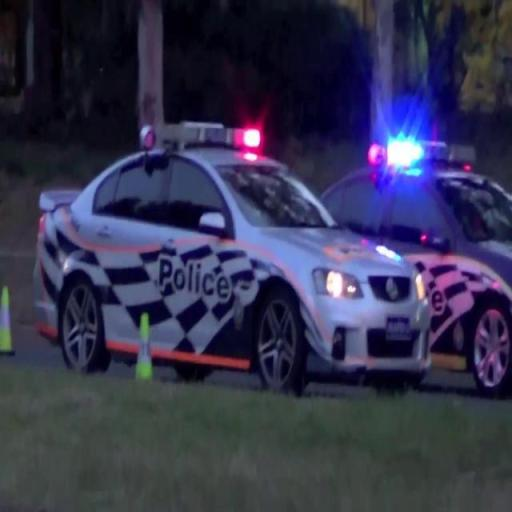Ambulance: (38, 122, 434, 380)
